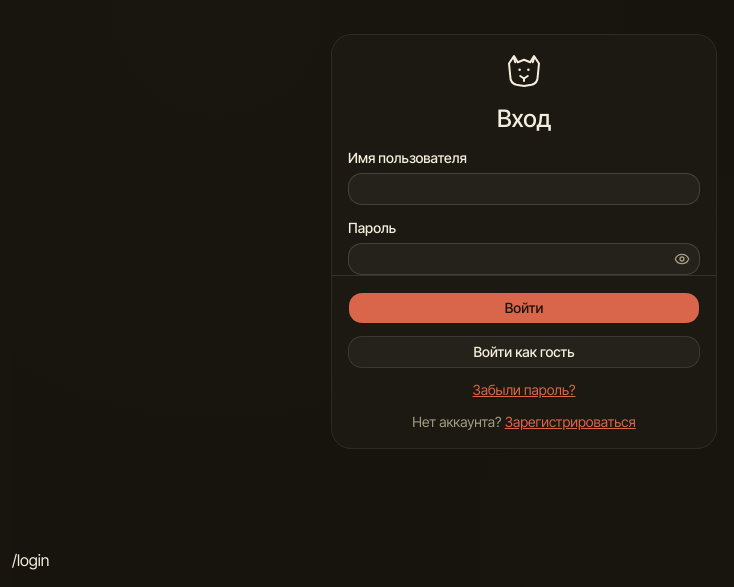
Scenario: LoginPage › при 401 показывает 'Неверный логин или пароль'
Type "nikita" into the field labelled "Имя пользователя". click: [524, 189]
box: 348,173 -> 700,205
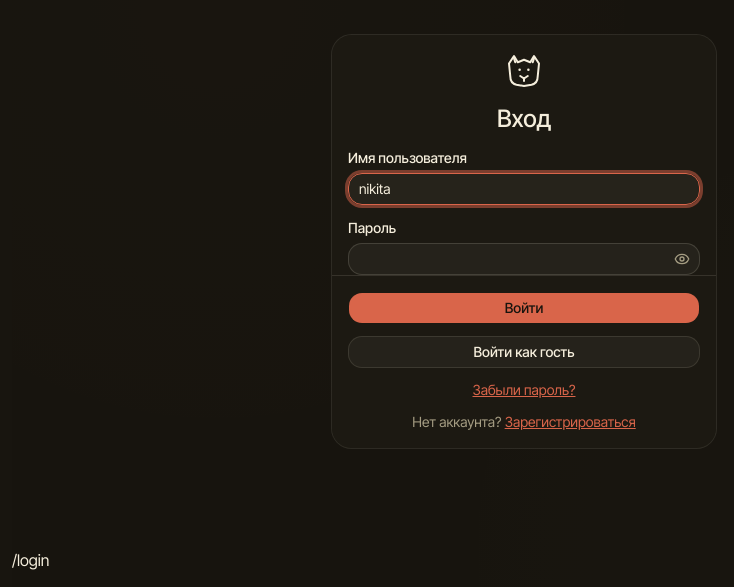
Type "secret123" into the password field labelled "Пароль". click: [524, 259]
box: 348,243 -> 700,275
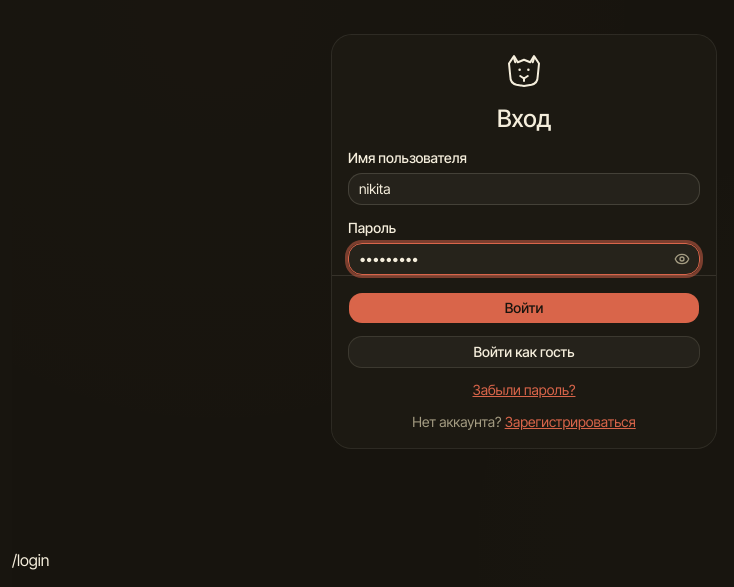
Click the button "Войти". click: [524, 308]
box: 348,292 -> 700,324
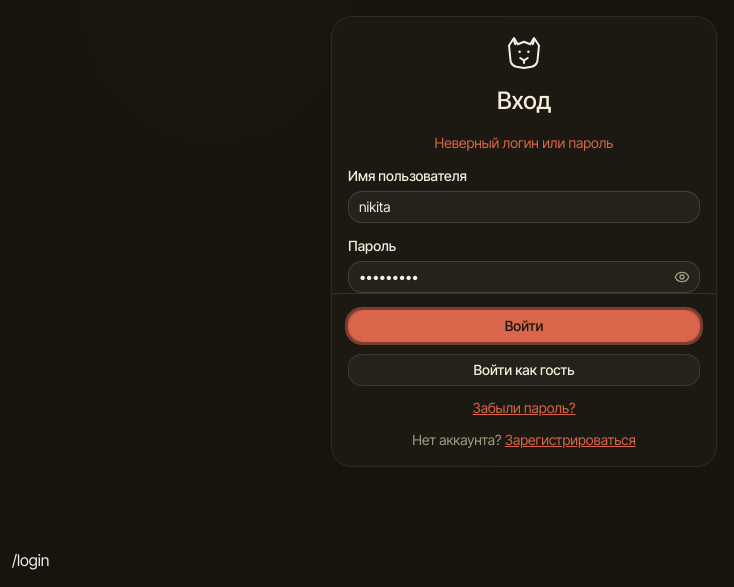
Expected: the text "Неверный логин или пароль" is shown, 435,134 -> 614,151
